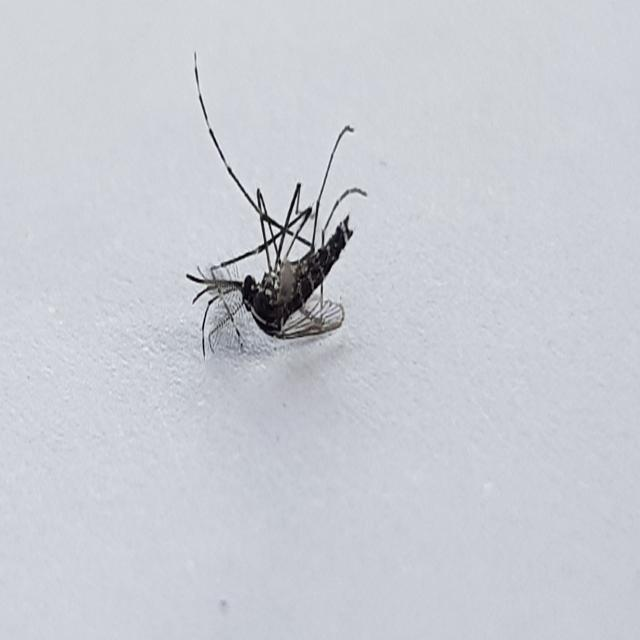albopictus: (177, 47, 370, 361)
